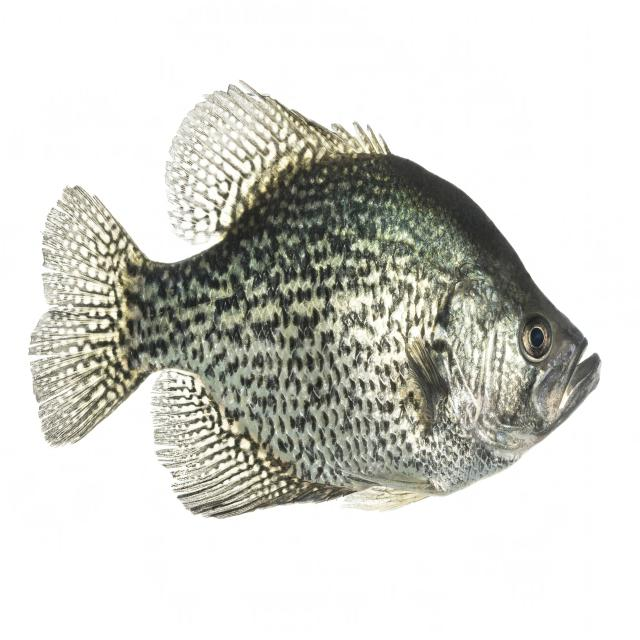Crappie - Black: (30, 84, 600, 517)
